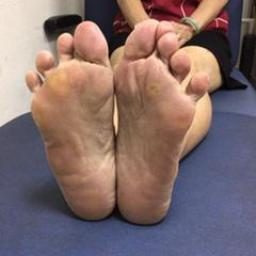Plantar View -Both Feet-: (20, 15, 214, 232)
